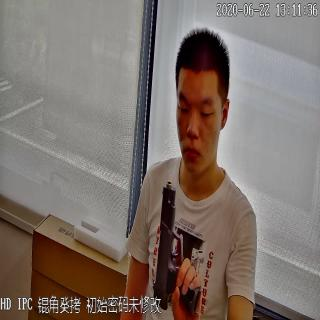gun: (150, 179, 202, 320)
